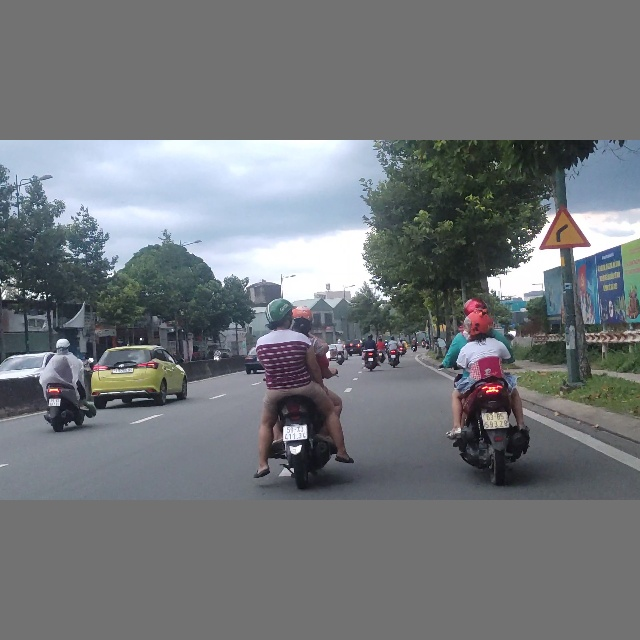W.201b: (537, 204, 592, 250)
